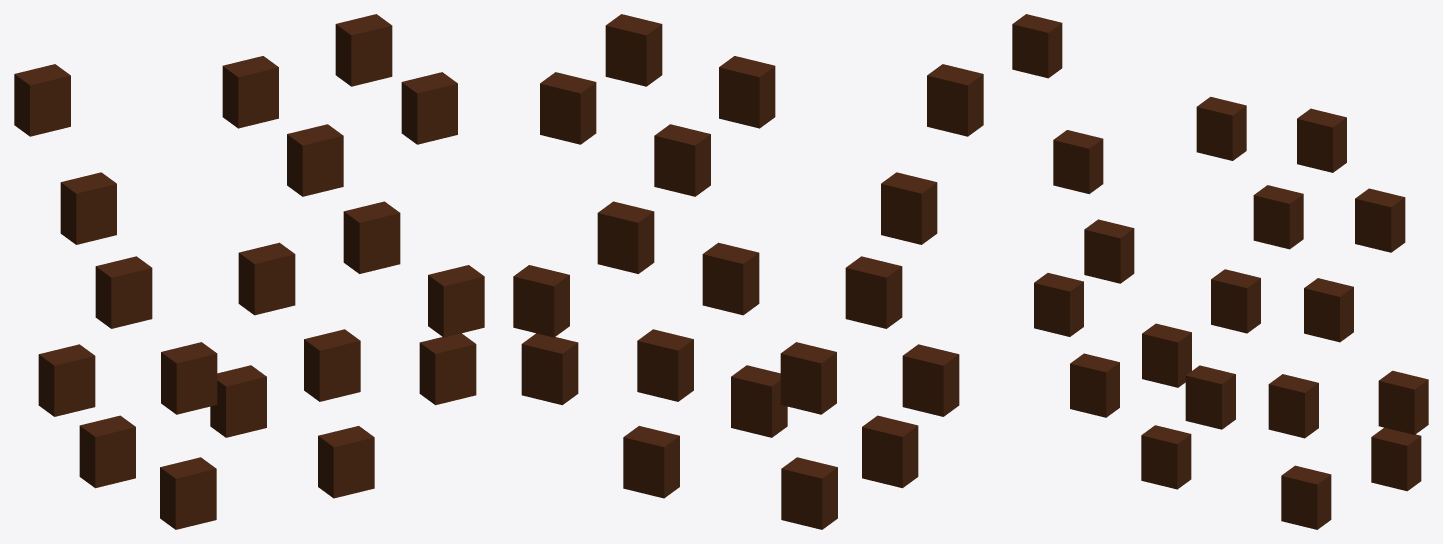
The model's file is CrowdStones.fbx.
3 views of the same model, side by side, from view 1: azimuth 30°, elevation 25°; view 2: azimuth 150°, elevation 25°; view 3: azimuth 330°, elevation 25° (orthographic). The views are drawn at different scales.
Visible parts, largest first — view 1: Cube.015, Cube.018, Cube.031, Cube.045, Cube.027, Cube.029, Cube.016, Cube.017, Cube.001, Cube.003, Cube.005, Cube.006 (+6 smaller); view 2: Cube.015, Cube.018, Cube.031, Cube.045, Cube.027, Cube.029, Cube.016, Cube.017, Cube.001, Cube.003, Cube.005, Cube.006 (+6 smaller); view 3: Cube.003, Cube.007, Cube.001, Cube.028, Cube.002, Cube.005, Cube.015, Cube.016, Cube.026, Cube.030, Cube.004, Cube.029 (+6 smaller).
Part boxes in pixels (bbox=[...]): Cube.015: bbox=[95, 256, 152, 328]; Cube.018: bbox=[38, 344, 95, 416]; Cube.031: bbox=[335, 14, 392, 86]; Cube.045: bbox=[238, 242, 295, 315]; Cube.027: bbox=[343, 201, 400, 273]; Cube.029: bbox=[419, 333, 476, 405]; Cube.016: bbox=[60, 172, 116, 244]; Cube.017: bbox=[79, 415, 135, 488]; Cube.001: bbox=[401, 72, 457, 144]; Cube.003: bbox=[304, 329, 360, 401]; Cube.005: bbox=[160, 457, 216, 529]; Cube.006: bbox=[161, 342, 217, 414]; Cube.015: bbox=[845, 256, 902, 328]; Cube.018: bbox=[902, 344, 959, 416]; Cube.031: bbox=[605, 14, 662, 86]; Cube.045: bbox=[702, 242, 759, 315]; Cube.027: bbox=[597, 201, 654, 273]; Cube.029: bbox=[521, 333, 578, 405]; Cube.016: bbox=[881, 172, 937, 244]; Cube.017: bbox=[862, 415, 918, 488]; Cube.001: bbox=[540, 72, 596, 144]; Cube.003: bbox=[637, 329, 693, 401]; Cube.005: bbox=[781, 457, 837, 529]; Cube.006: bbox=[780, 342, 836, 414]; Cube.003: bbox=[1268, 374, 1318, 438]; Cube.007: bbox=[1281, 465, 1331, 529]; Cube.001: bbox=[1355, 188, 1405, 252]; Cube.028: bbox=[1253, 185, 1303, 249]; Cube.002: bbox=[1185, 365, 1235, 429]; Cube.005: bbox=[1141, 425, 1191, 489]; Cube.015: bbox=[1084, 219, 1134, 283]; Cube.016: bbox=[1053, 130, 1103, 194]; Cube.026: bbox=[1012, 14, 1062, 78]; Cube.030: bbox=[1378, 370, 1428, 434]; Cube.004: bbox=[1196, 96, 1246, 160]; Cube.029: bbox=[1371, 427, 1421, 491].
Bounding box in the file's own units: 167 × 171 × 10.
